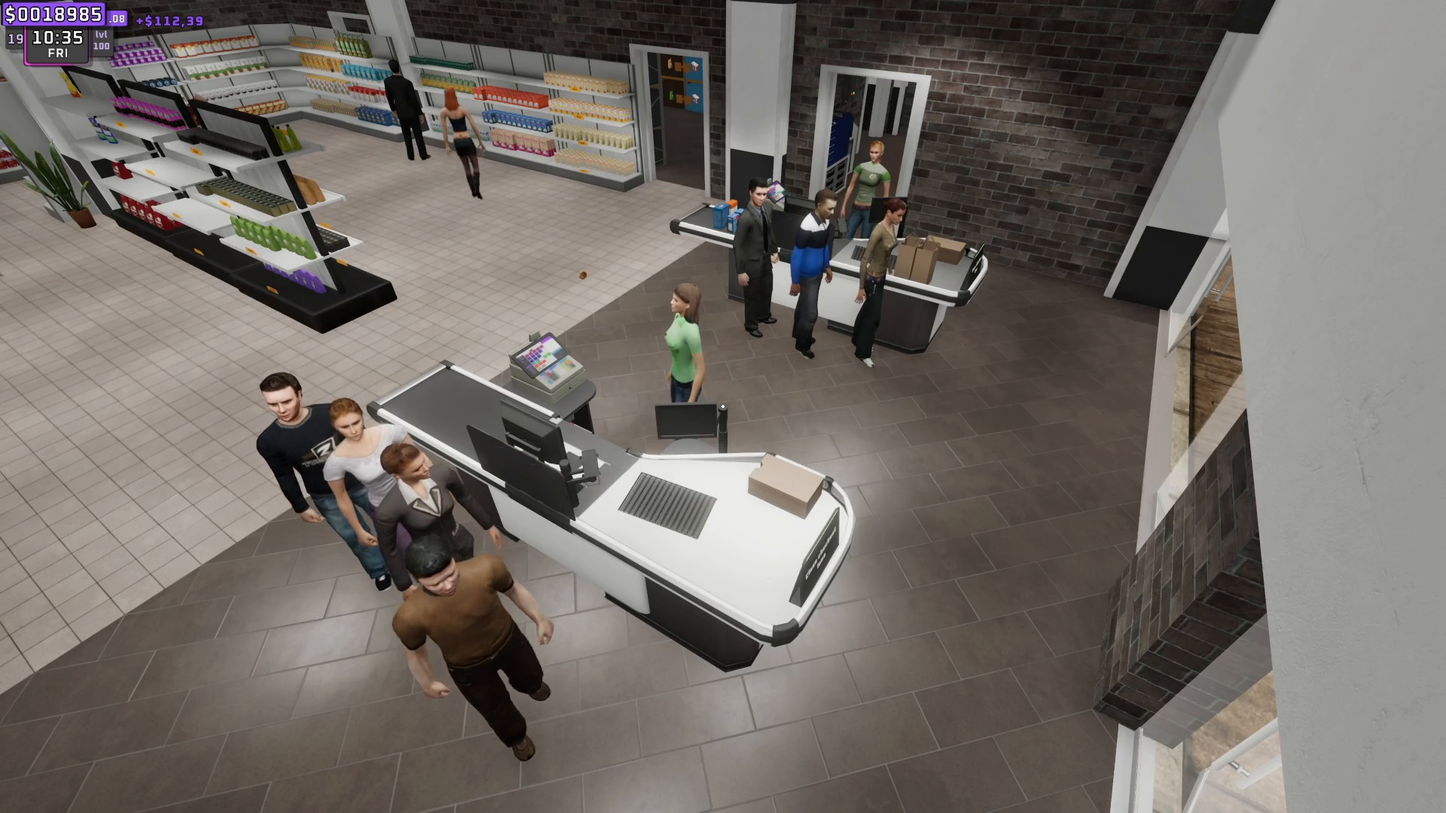Client: (251, 375, 393, 588), (404, 537, 555, 737), (380, 446, 511, 596), (322, 406, 406, 522), (729, 181, 781, 333), (865, 200, 901, 383), (796, 187, 831, 357)
Employee: (661, 284, 708, 401), (851, 131, 888, 204)
